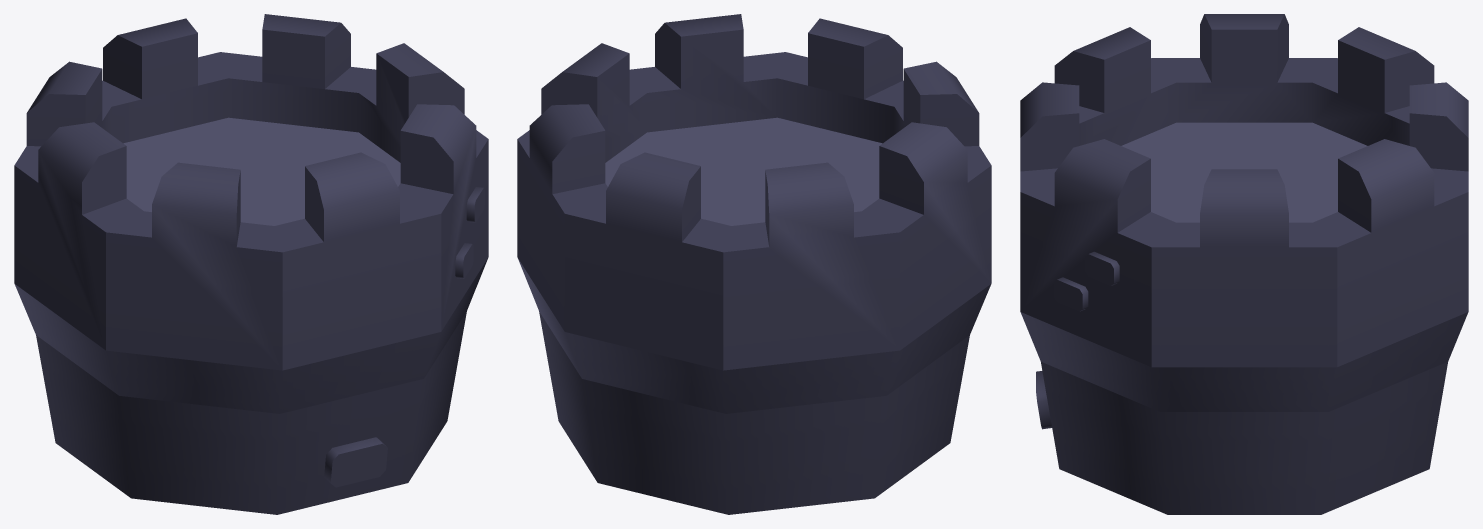
The model's file is tower-top.fbx.
The picture shows the model from 3 angles, left to right: view 1: azimuth 30°, elevation 25°; view 2: azimuth 150°, elevation 25°; view 3: azimuth 270°, elevation 25°; orthographic projection.
Visible parts, largest first — view 1: tower-top; view 2: tower-top; view 3: tower-top.
Part boxes in pixels (x1,y1,x2,y2): tower-top: [14, 14, 488, 514]; tower-top: [517, 14, 991, 514]; tower-top: [1020, 14, 1468, 514].
Bounding box in the file's own units: 335 × 278 × 335.
